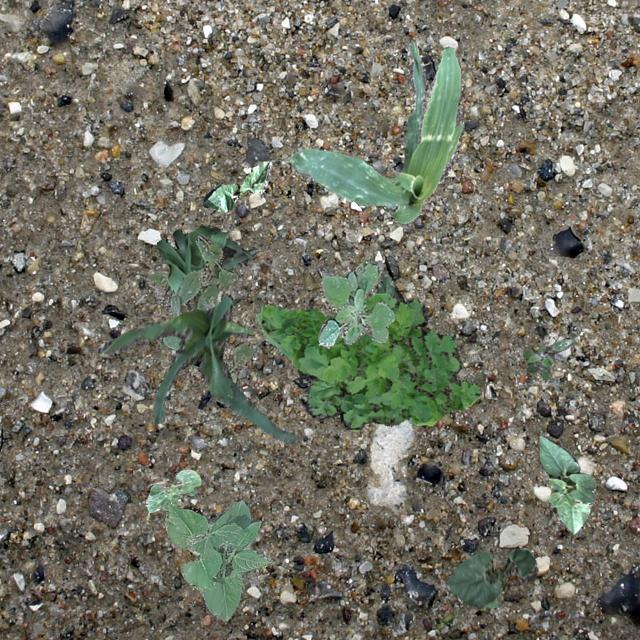crop: (287, 42, 463, 222), (96, 296, 296, 442), (164, 500, 272, 620), (156, 224, 262, 292), (538, 434, 594, 534), (446, 546, 536, 608), (202, 160, 270, 210), (144, 468, 200, 512), (374, 274, 404, 302)
weed: (256, 292, 480, 430), (146, 234, 252, 386), (316, 262, 394, 346), (522, 338, 570, 378)
